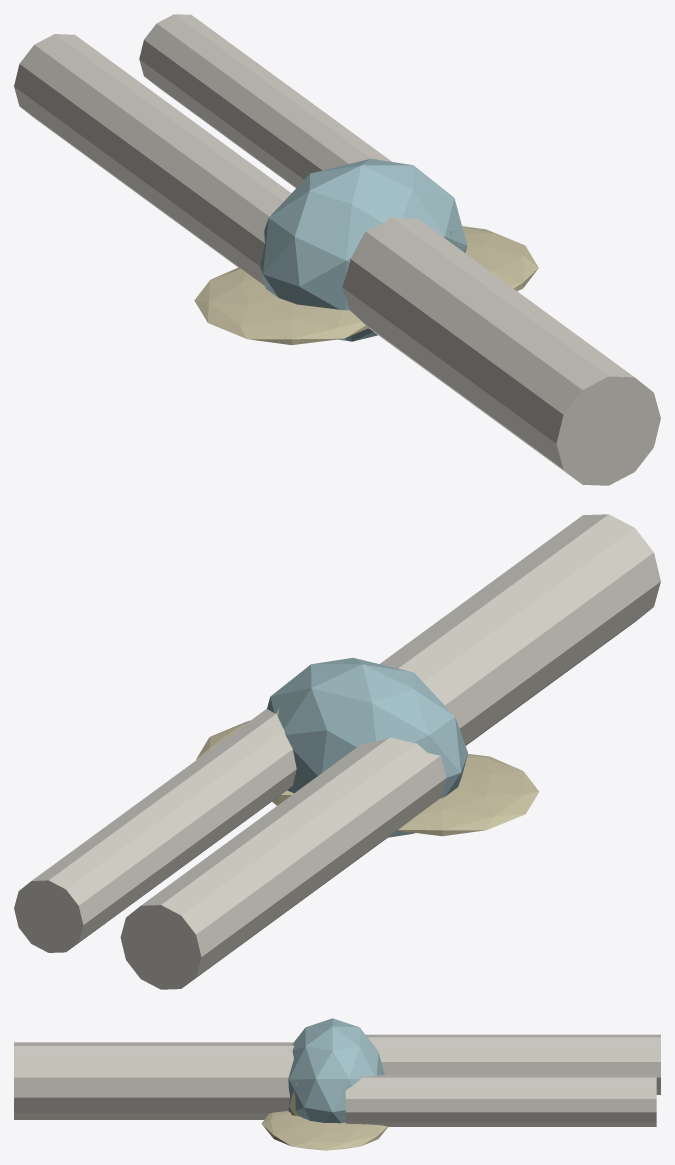
File: elbow-low.glb
3 renders of one model, top to bottom at view 1: azimuth 30°, elevation 25°; view 2: azimuth 150°, elevation 25°; view 3: azimuth 270°, elevation 25°, orthographic. The views are drawn at different scales.
Visible parts, largest first — view 1: humerus_distal, ulna, radius, elbow_joint_surface, ulnar_collateral_ligament_proxy, radial_collateral_ligament_proxy; view 2: ulna, humerus_distal, radius, elbow_joint_surface, ulnar_collateral_ligament_proxy; view 3: humerus_distal, radius, ulna, elbow_joint_surface, radial_collateral_ligament_proxy.
Boxes of the visible parts, bbox=[...] form: humerus_distal: bbox=[342, 217, 660, 485]; ulna: bbox=[14, 34, 291, 285]; radius: bbox=[139, 14, 391, 187]; elbow_joint_surface: bbox=[260, 158, 467, 341]; ulnar_collateral_ligament_proxy: bbox=[194, 267, 368, 345]; radial_collateral_ligament_proxy: bbox=[462, 226, 538, 290]; ulna: bbox=[120, 737, 446, 989]; humerus_distal: bbox=[380, 514, 660, 745]; radius: bbox=[14, 709, 296, 952]; elbow_joint_surface: bbox=[267, 657, 468, 837]; ulnar_collateral_ligament_proxy: bbox=[397, 754, 539, 836]; humerus_distal: bbox=[14, 1042, 294, 1119]; radius: bbox=[345, 1075, 656, 1126]; ulna: bbox=[366, 1034, 660, 1094]; elbow_joint_surface: bbox=[288, 1018, 384, 1123]; radial_collateral_ligament_proxy: bbox=[261, 1111, 387, 1150].
Size of the model in its own units: 1.09 by 0.56 by 3.
